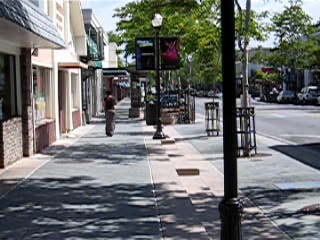person: (103, 89, 118, 138), (102, 89, 117, 138), (104, 89, 119, 138), (103, 88, 118, 137), (103, 90, 118, 139)
target_negative: (143, 74, 277, 209), (193, 18, 297, 99), (23, 80, 146, 126), (247, 137, 297, 229), (187, 186, 285, 231), (293, 193, 317, 235)
